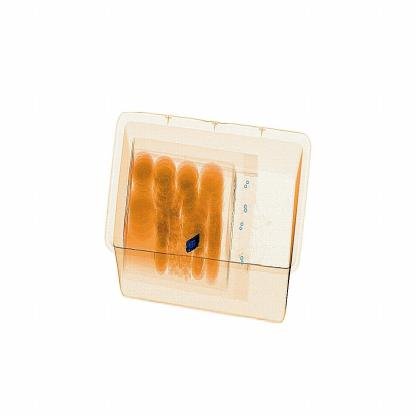knife: (183, 234, 200, 254)
